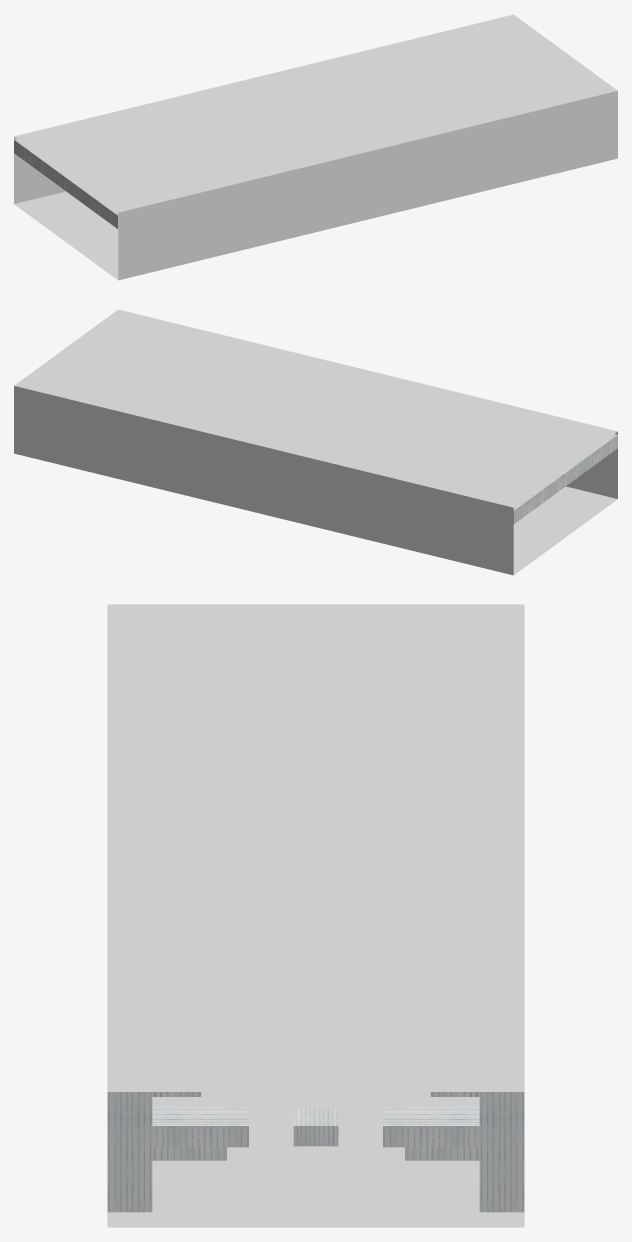
File: MAP5ori.fbx
The picture shows the model from 3 angles, top to bottom: view 1: azimuth 30°, elevation 25°; view 2: azimuth 150°, elevation 25°; view 3: azimuth 270°, elevation 25°; orthographic projection. The views are drawn at different scales.
Visible parts, largest first — view 1: Box001, Box262; view 2: Box001, Box262; view 3: Box001, Box264, Box269, Box265, Box266, Box268.
Boxes of the visible parts, bbox=[...] form: Box001: bbox=[14, 14, 617, 280]; Box262: bbox=[14, 139, 118, 228]; Box001: bbox=[14, 309, 617, 575]; Box262: bbox=[513, 434, 617, 523]; Box001: bbox=[107, 604, 524, 1227]; Box264: bbox=[383, 1092, 524, 1212]; Box269: bbox=[107, 1092, 248, 1212]; Box265: bbox=[293, 1107, 338, 1146]; Box266: bbox=[405, 1092, 479, 1160]; Box268: bbox=[152, 1092, 226, 1160].
Bounding box in the file's own units: 775 × 100 × 280.
1 material, 1 textured.
